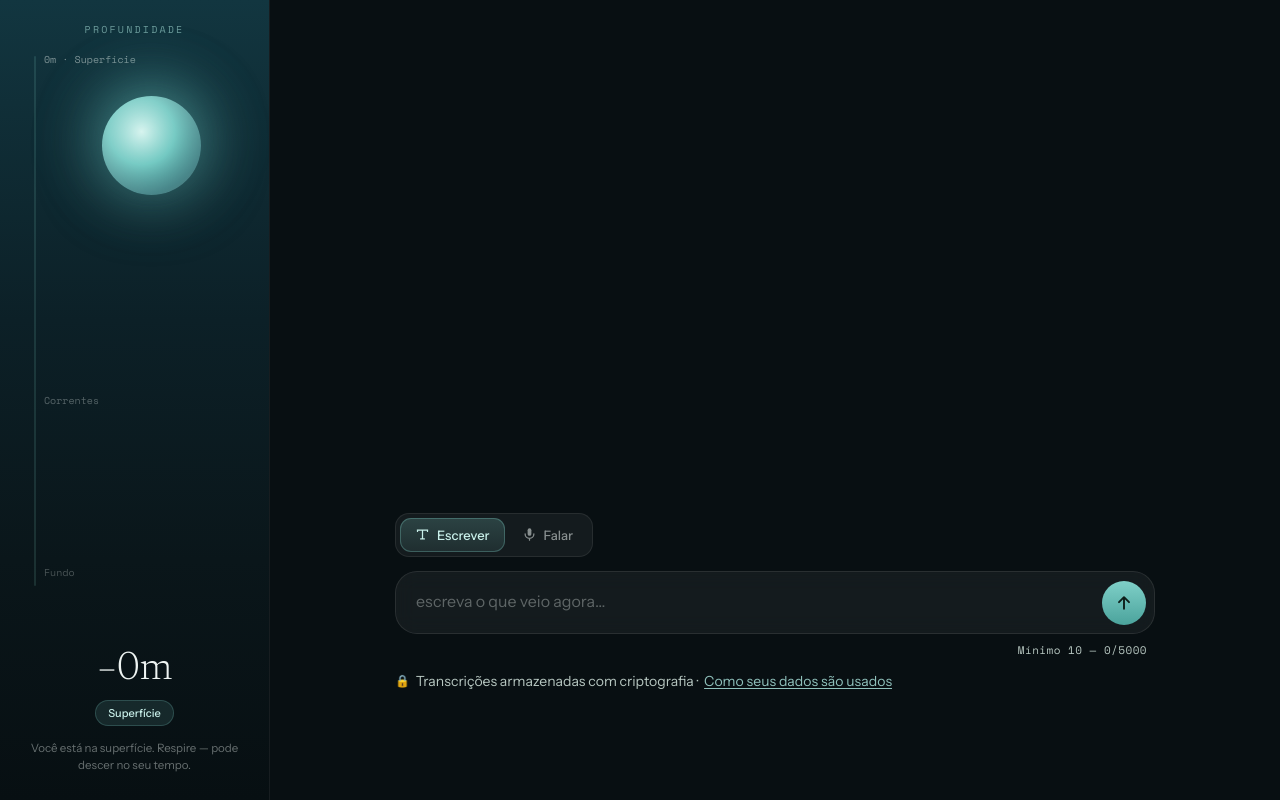
Test: ChatWindow › avança o medidor de profundidade após uma resposta normal
Type "Uma mensagem válida de teste." into the text box named "Sua mensagem" at (753, 602), box [416,580,1090,625]
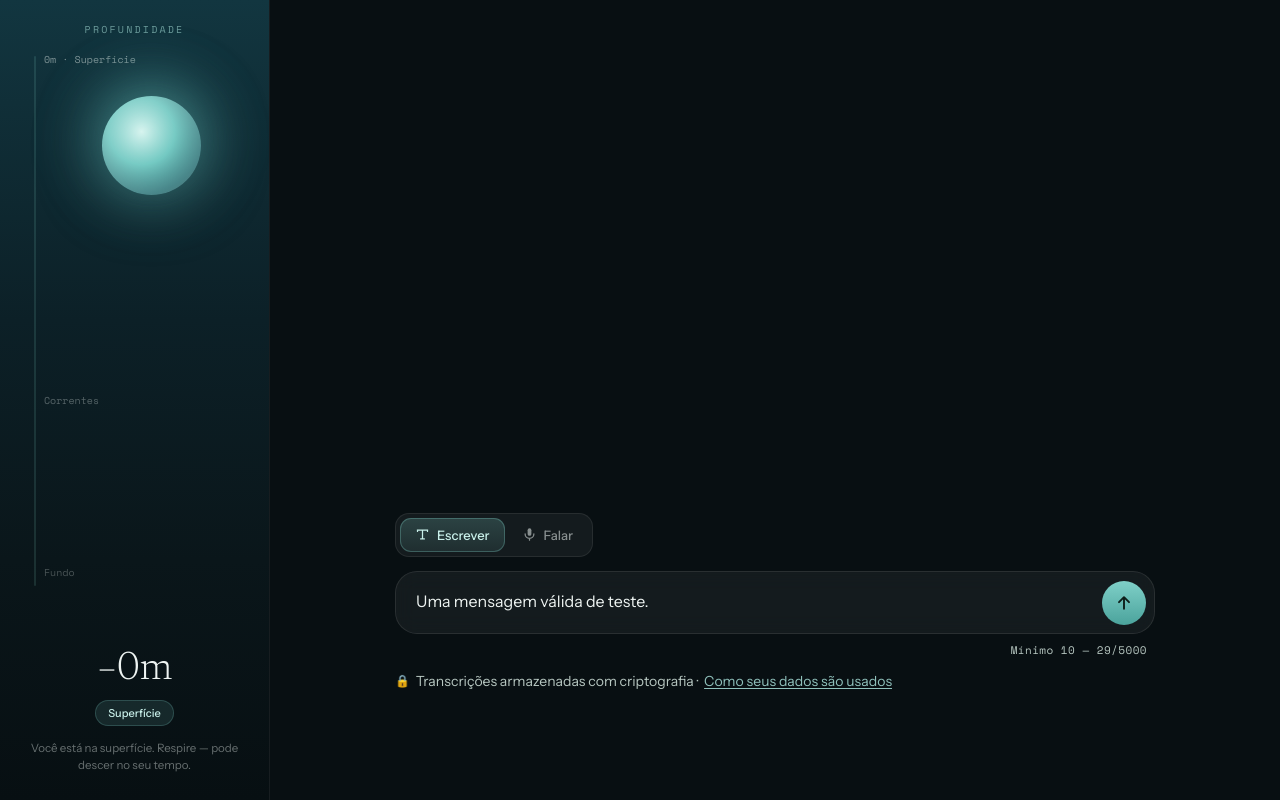
Click the button named "Enviar" at (1124, 603), box [1102,581,1146,625]
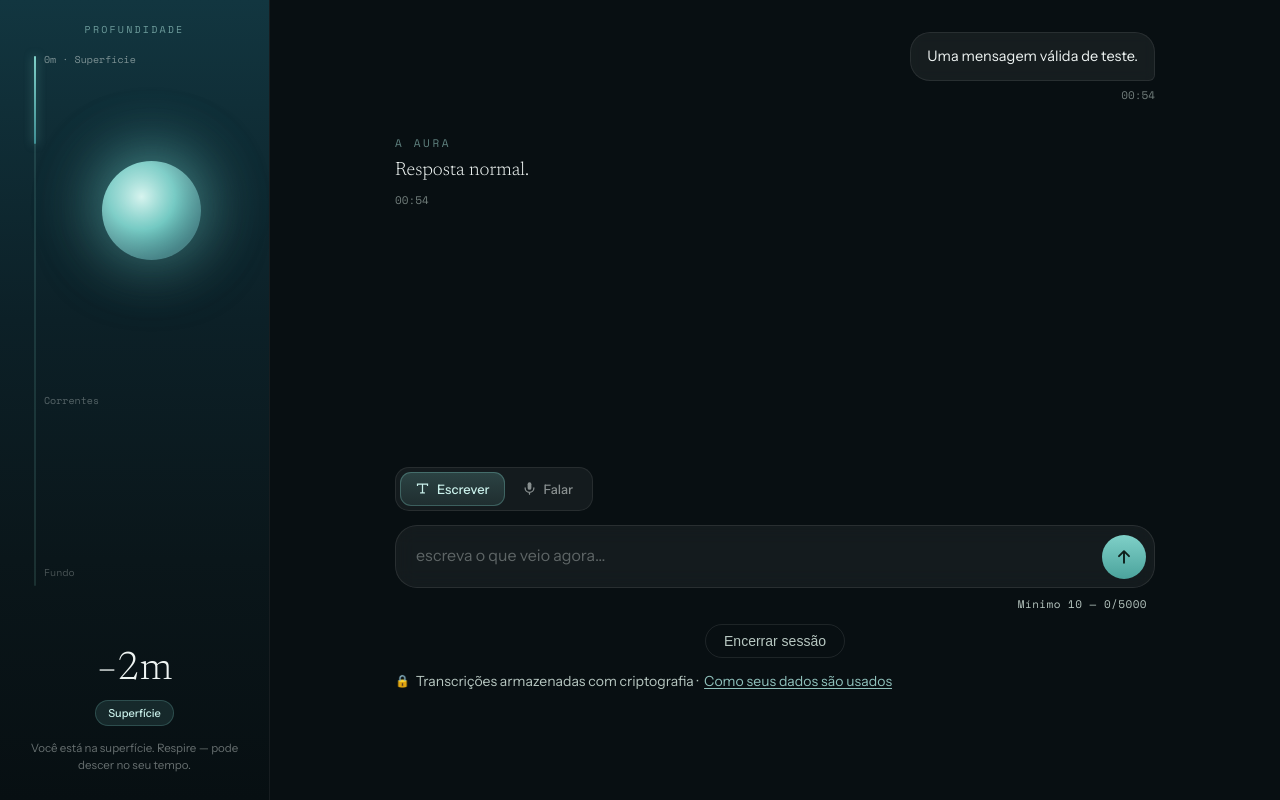
expect the text "Resposta normal." is shown: met, box [395,161,529,180]
expect the text "−2m" is shown: met, box [97,650,172,690]
